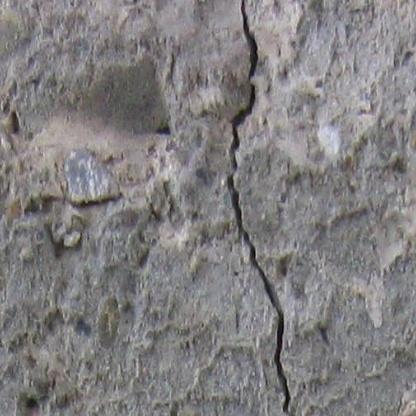Cracks: (226, 0, 307, 416)
